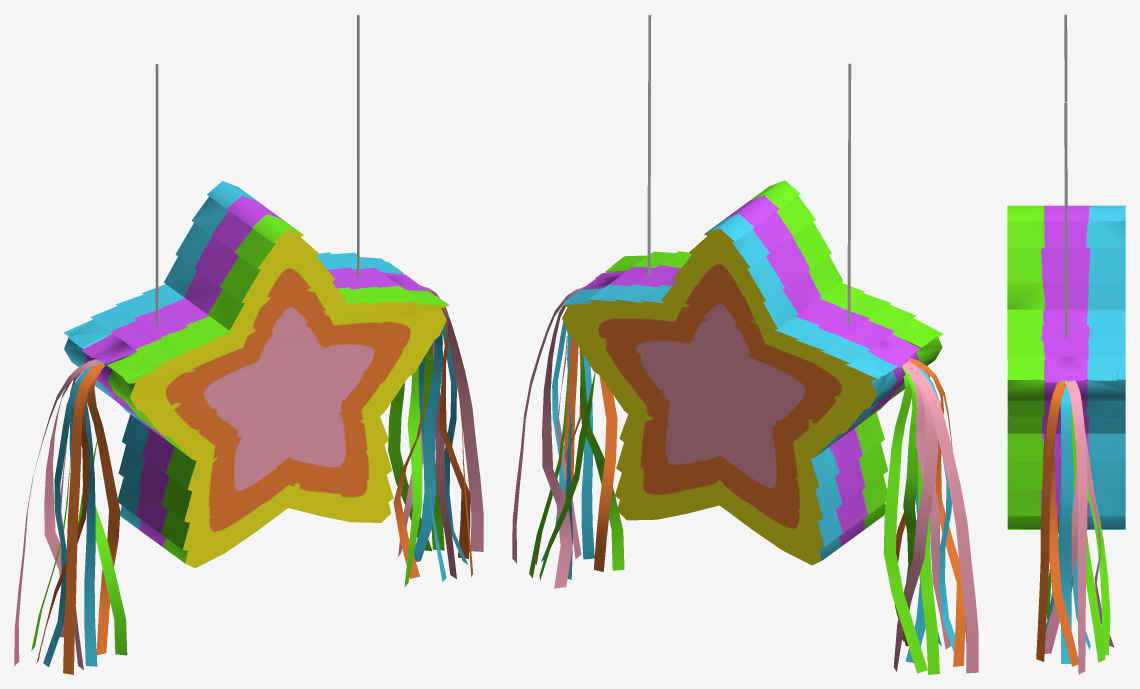
Rendered from pinata.glb.
3 views of the same model, side by side, from view 1: azimuth 30°, elevation 25°; view 2: azimuth 150°, elevation 25°; view 3: azimuth 270°, elevation 25° (orthographic). The views are drawn at different scales.
Parts seen in each view (by area): view 1: pinata; view 2: pinata; view 3: pinata.
Part boxes in pixels (<box>): pinata: <box>14,14,483,674</box>; pinata: <box>512,14,978,674</box>; pinata: <box>1007,14,1125,674</box>.
Size of the model in its own units: 3.47 by 4.05 by 0.8429.
1 material, 1 textured.
